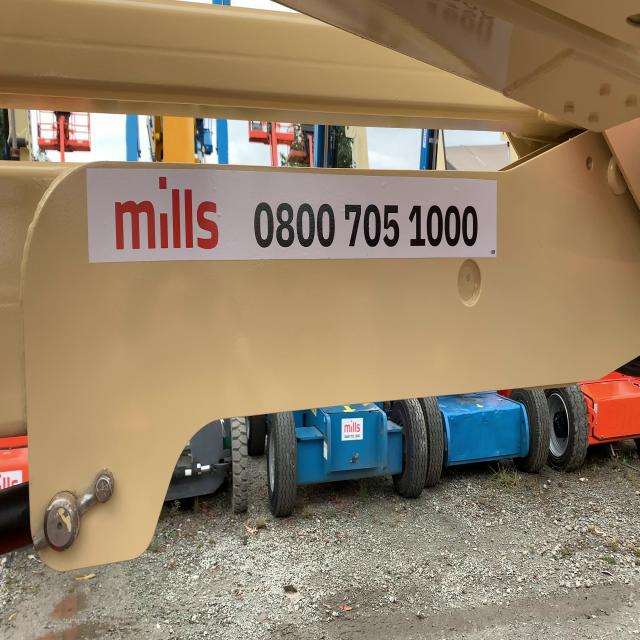Adesivo Longo: (83, 161, 502, 268)
Adesivos: (341, 416, 364, 443)
